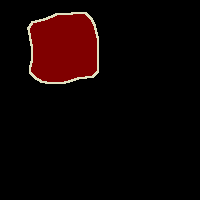hat: (28, 12, 98, 83)
